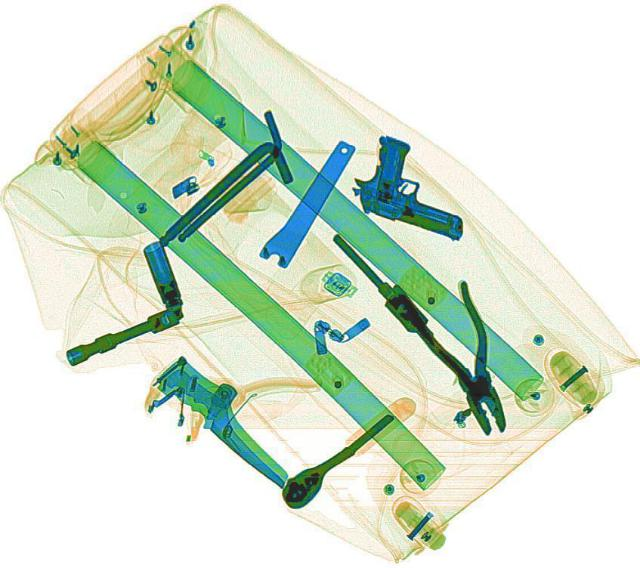Gun: (340, 130, 490, 239)
Pliers: (390, 269, 530, 441)
